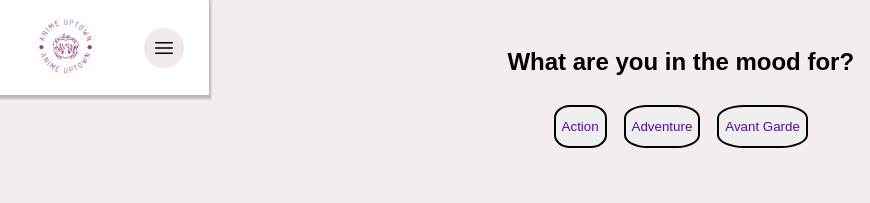
Test: template spec › should have a navbar with functional links
What coordinates should you click on to do the following:
click the button with class "hamburger"
I would click on:
 (165, 48)
Its box is [145, 28, 185, 68].
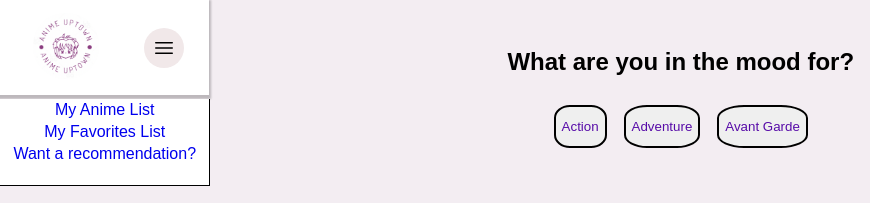
Check: the link "My Anime List" is shown, box [55, 101, 154, 118]
Check: the link "My Favorites List" is shown, box [44, 123, 165, 140]
Check: the link "Want a recommendation?" is shown, box [13, 145, 196, 162]
